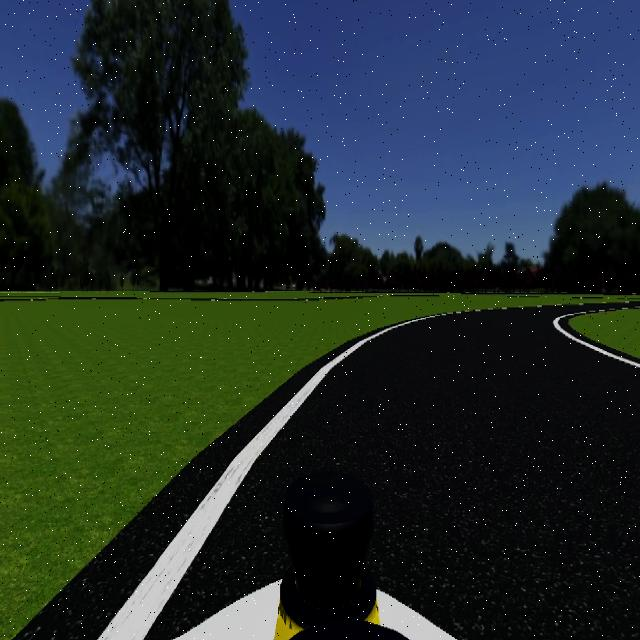road: (146, 309, 640, 640)
solid_line: (96, 320, 419, 640), (553, 315, 640, 371)
